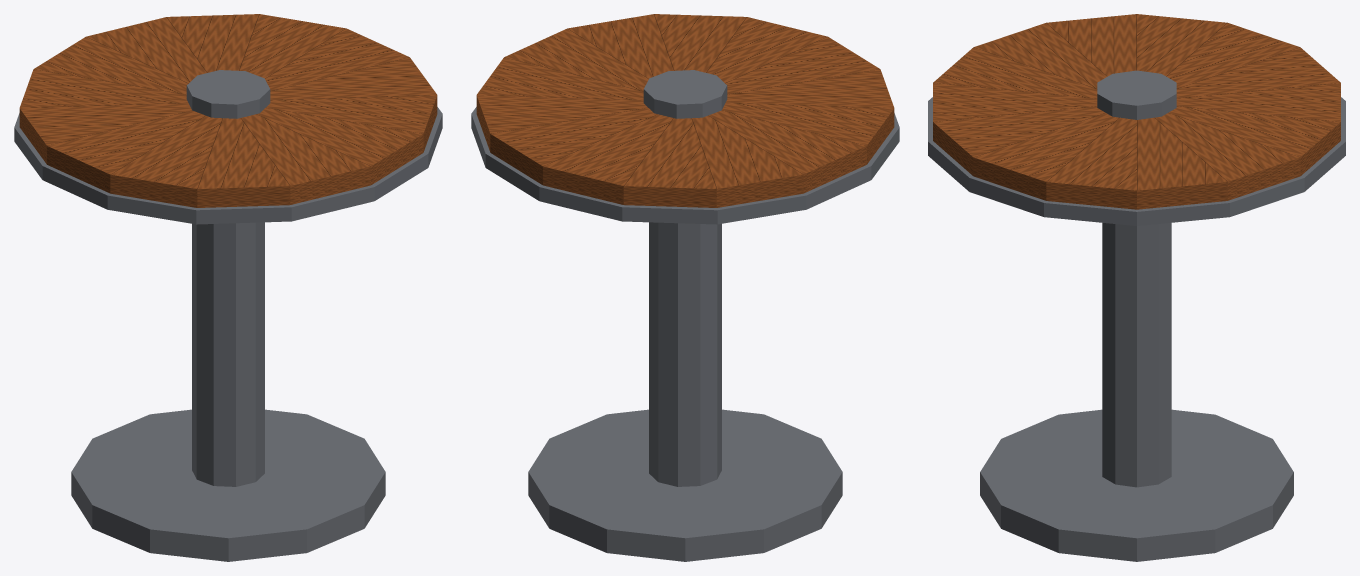
Rendered from cruise-ship-deck-and-lounge-cruise-ship-deck-and-loung-42d9bd95__38454.glb.
3 renders of one model, left to right at view 1: azimuth 30°, elevation 25°; view 2: azimuth 150°, elevation 25°; view 3: azimuth 270°, elevation 25°, orthographic.
Visible parts, largest first — view 1: cruise-ship-deck-and-lounge-cafe-table; view 2: cruise-ship-deck-and-lounge-cafe-table; view 3: cruise-ship-deck-and-lounge-cafe-table.
Boxes of the visible parts, box(x1,y1,x2,y2) form: cruise-ship-deck-and-lounge-cafe-table: box(14, 14, 442, 561); cruise-ship-deck-and-lounge-cafe-table: box(471, 14, 899, 561); cruise-ship-deck-and-lounge-cafe-table: box(928, 14, 1345, 561).
Bounding box in the file's own units: 0.82 × 0.86 × 0.7994.
Materials: 3 (1 with a texture image).
